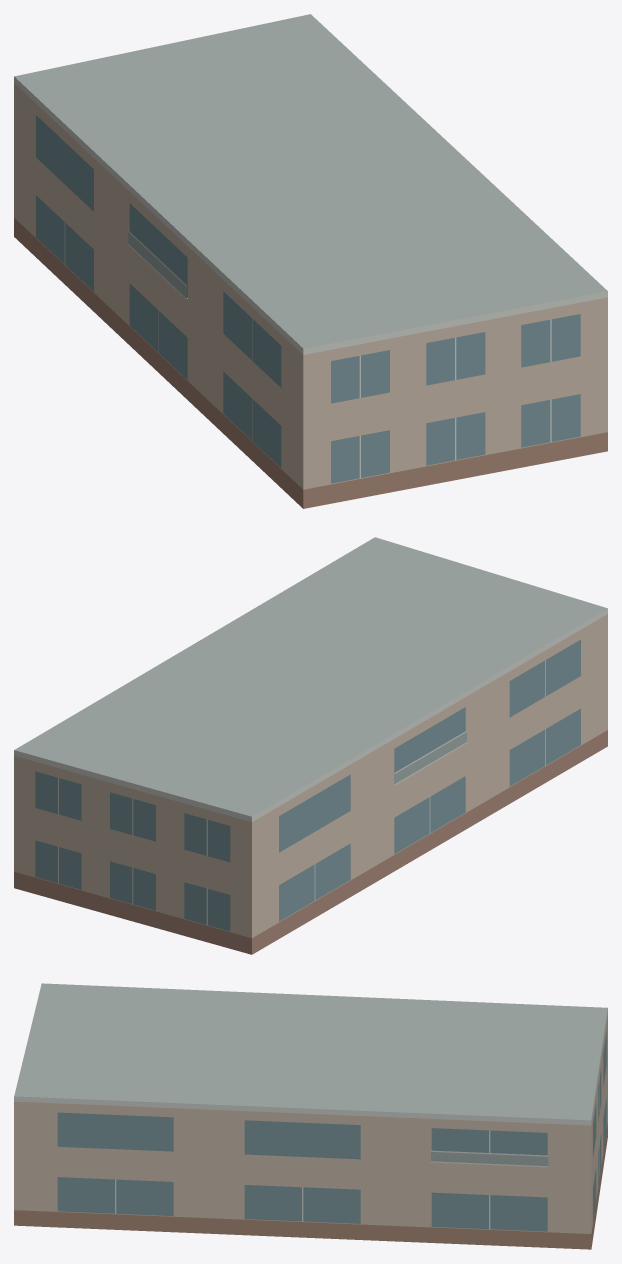
File: survey-upis-32629761.glb
3 renders of one model, top to bottom at view 1: azimuth 30°, elevation 25°; view 2: azimuth 150°, elevation 25°; view 3: azimuth 270°, elevation 25°, orthographic. The views are drawn at different scales.
Parts seen in each view (by area): view 1: survey-upis-32629761.tmp; view 2: survey-upis-32629761.tmp; view 3: survey-upis-32629761.tmp.
Part boxes in pixels (x1=…): survey-upis-32629761.tmp: x1=14, y1=14, x2=607, y2=508; survey-upis-32629761.tmp: x1=14, y1=537, x2=607, y2=954; survey-upis-32629761.tmp: x1=14, y1=983, x2=607, y2=1249.
Bounding box in the file's own units: 13.89 × 6.1 × 25.42.
